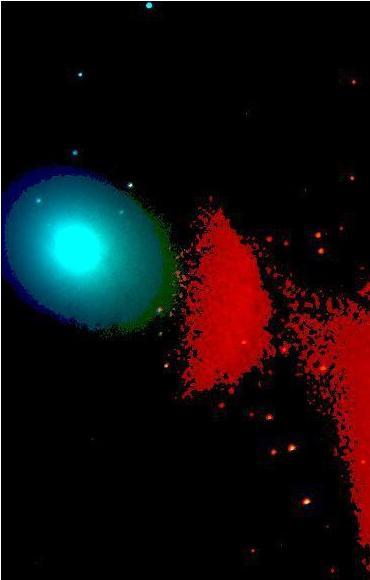star: (236, 395, 266, 425)
